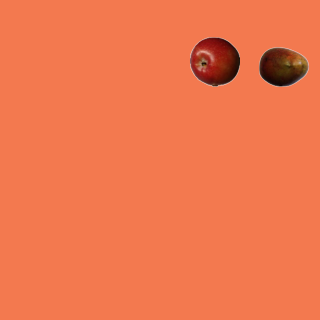Apple Braeburn: (189, 36, 239, 86)
Mango Red: (258, 41, 308, 91)
